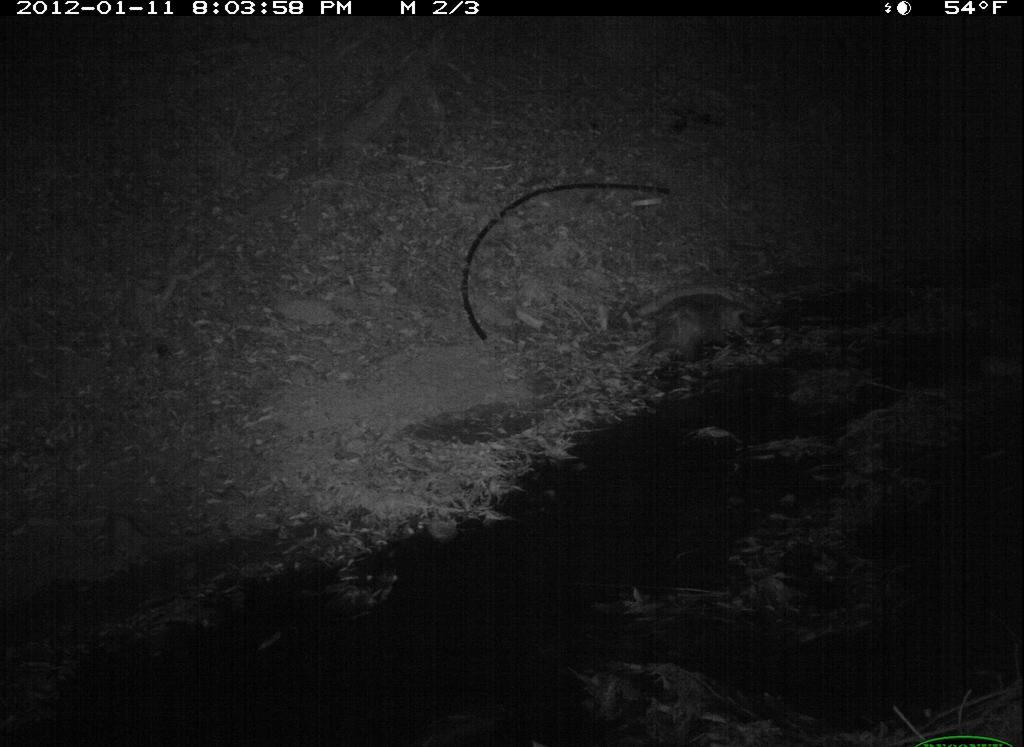opossum: (614, 289, 761, 378)
